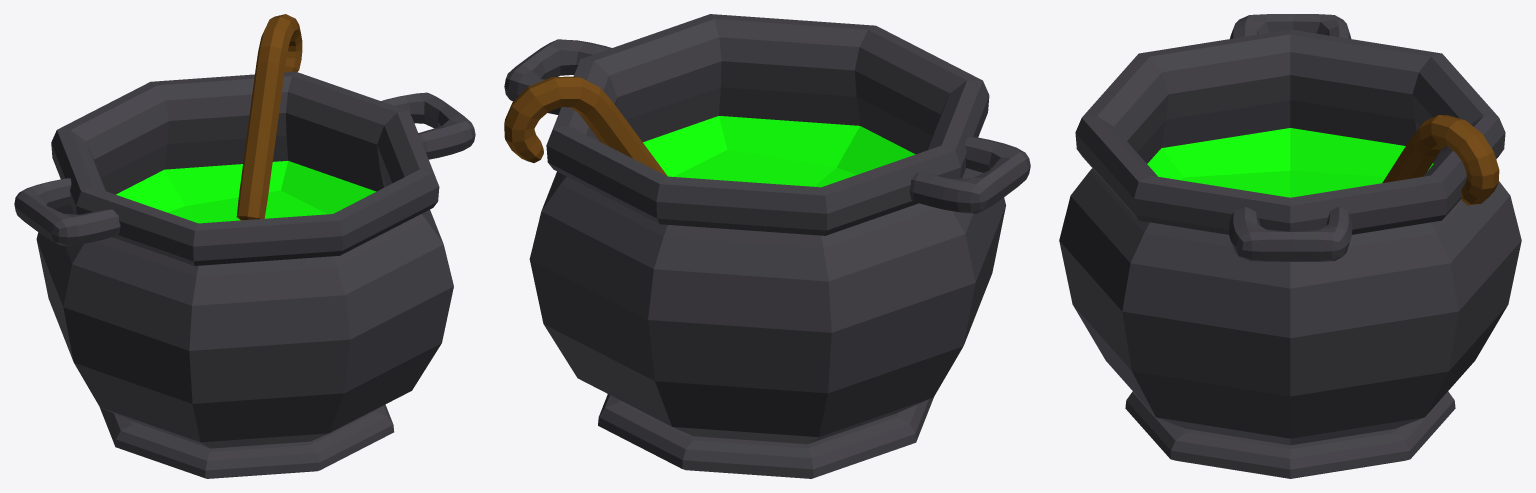
File: GrydeWizard.fbx
3 renders of one model, left to right at view 1: azimuth 30°, elevation 25°; view 2: azimuth 150°, elevation 25°; view 3: azimuth 270°, elevation 25°, orthographic. The views are drawn at different scales.
Parts seen in each view (by area): view 1: Cube.018, Cube.019; view 2: Cube.018, Cube.019; view 3: Cube.018, Cube.019.
Boxes of the visible parts, bbox=[...] form: Cube.018: bbox=[14, 71, 475, 478]; Cube.019: bbox=[236, 14, 302, 220]; Cube.018: bbox=[504, 14, 1030, 478]; Cube.019: bbox=[504, 76, 667, 176]; Cube.018: bbox=[1059, 14, 1521, 478]; Cube.019: bbox=[1382, 115, 1499, 205].
Size of the model in its own units: 258 by 186 by 222.
